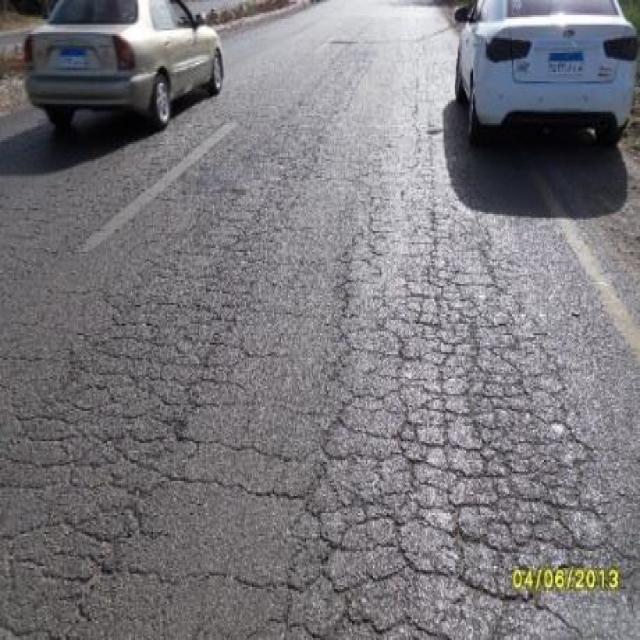Drain Hole: (64, 246, 640, 640)
